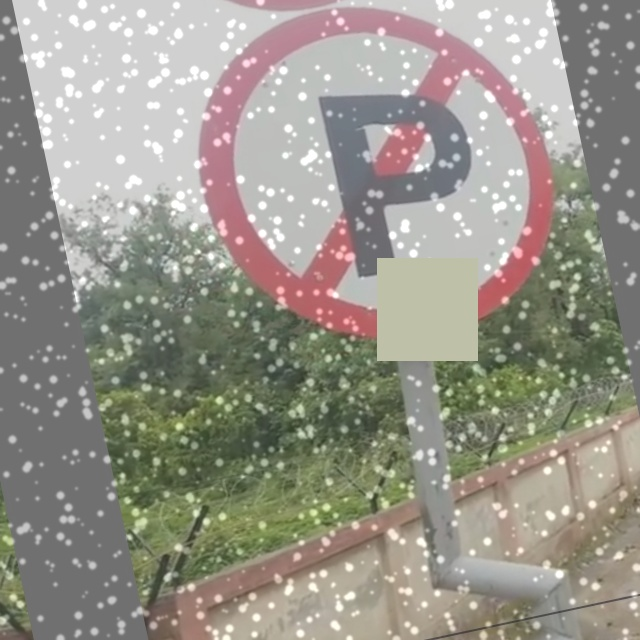No_Parking: (182, 1, 574, 366)
